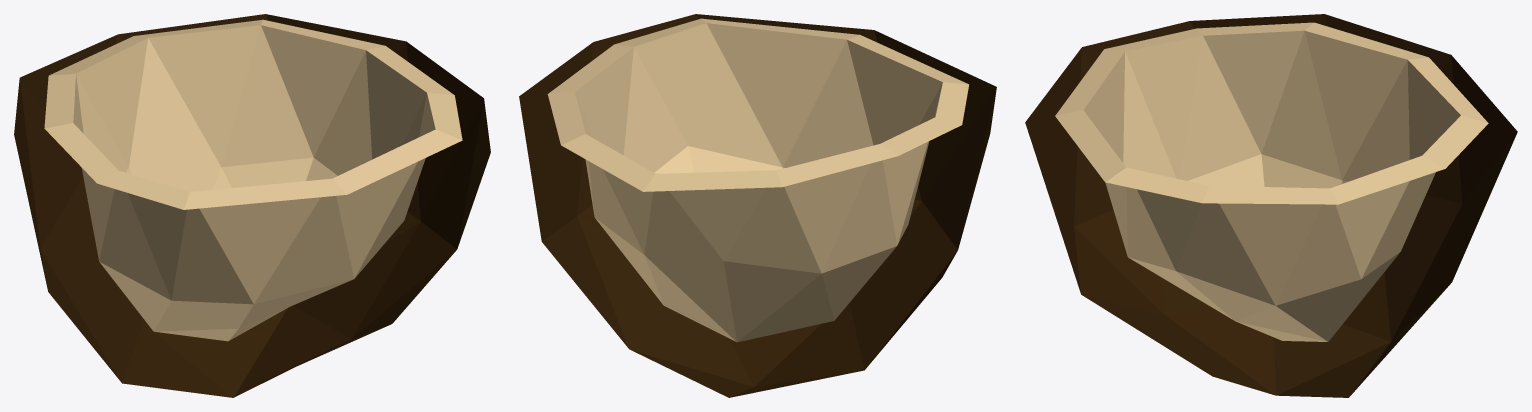
The model's file is CoconutHalf.glb.
3 views of the same model, side by side, from view 1: azimuth 30°, elevation 25°; view 2: azimuth 150°, elevation 25°; view 3: azimuth 270°, elevation 25° (orthographic). The views are drawn at different scales.
Visible parts, largest first — view 1: Coconut.001; view 2: Coconut.001; view 3: Coconut.001.
Boxes of the visible parts, x1,y1,x2,y2 form: Coconut.001: [14, 14, 490, 397]; Coconut.001: [519, 14, 996, 397]; Coconut.001: [1025, 14, 1517, 397].
Bounding box in the file's own units: 0.4631 × 0.3223 × 0.4876.
